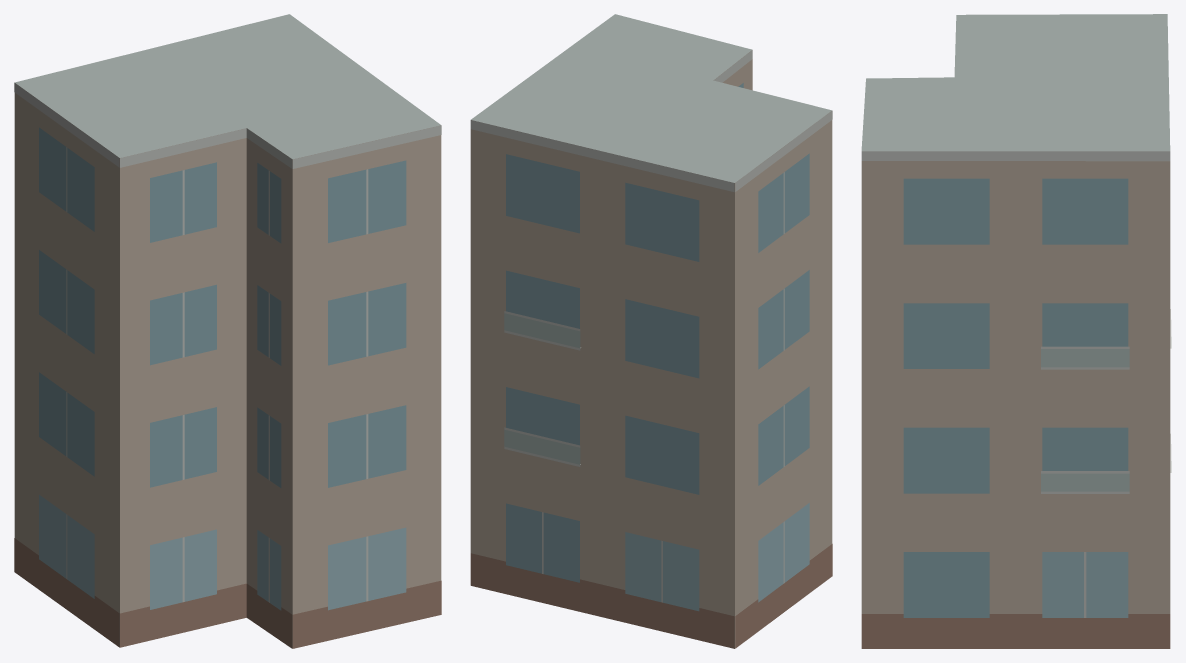
Rendered from survey-upis-32463425.glb.
The picture shows the model from 3 angles, left to right: view 1: azimuth 30°, elevation 25°; view 2: azimuth 150°, elevation 25°; view 3: azimuth 270°, elevation 25°; orthographic projection. The views are drawn at different scales.
Visible parts, largest first — view 1: survey-upis-32463425.tmp; view 2: survey-upis-32463425.tmp; view 3: survey-upis-32463425.tmp.
Part boxes in pixels (<box>): survey-upis-32463425.tmp: <box>14,14,441,648</box>; survey-upis-32463425.tmp: <box>470,14,832,648</box>; survey-upis-32463425.tmp: <box>861,14,1171,648</box>.
Bounding box in the file's own units: 7.26 × 12.2 × 6.9.
